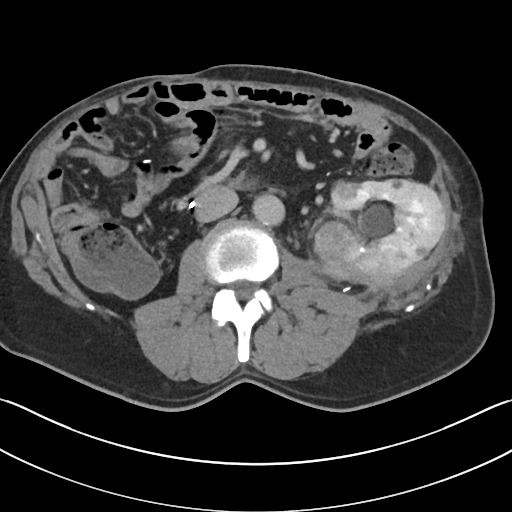Lesion: (306, 218, 363, 270)
